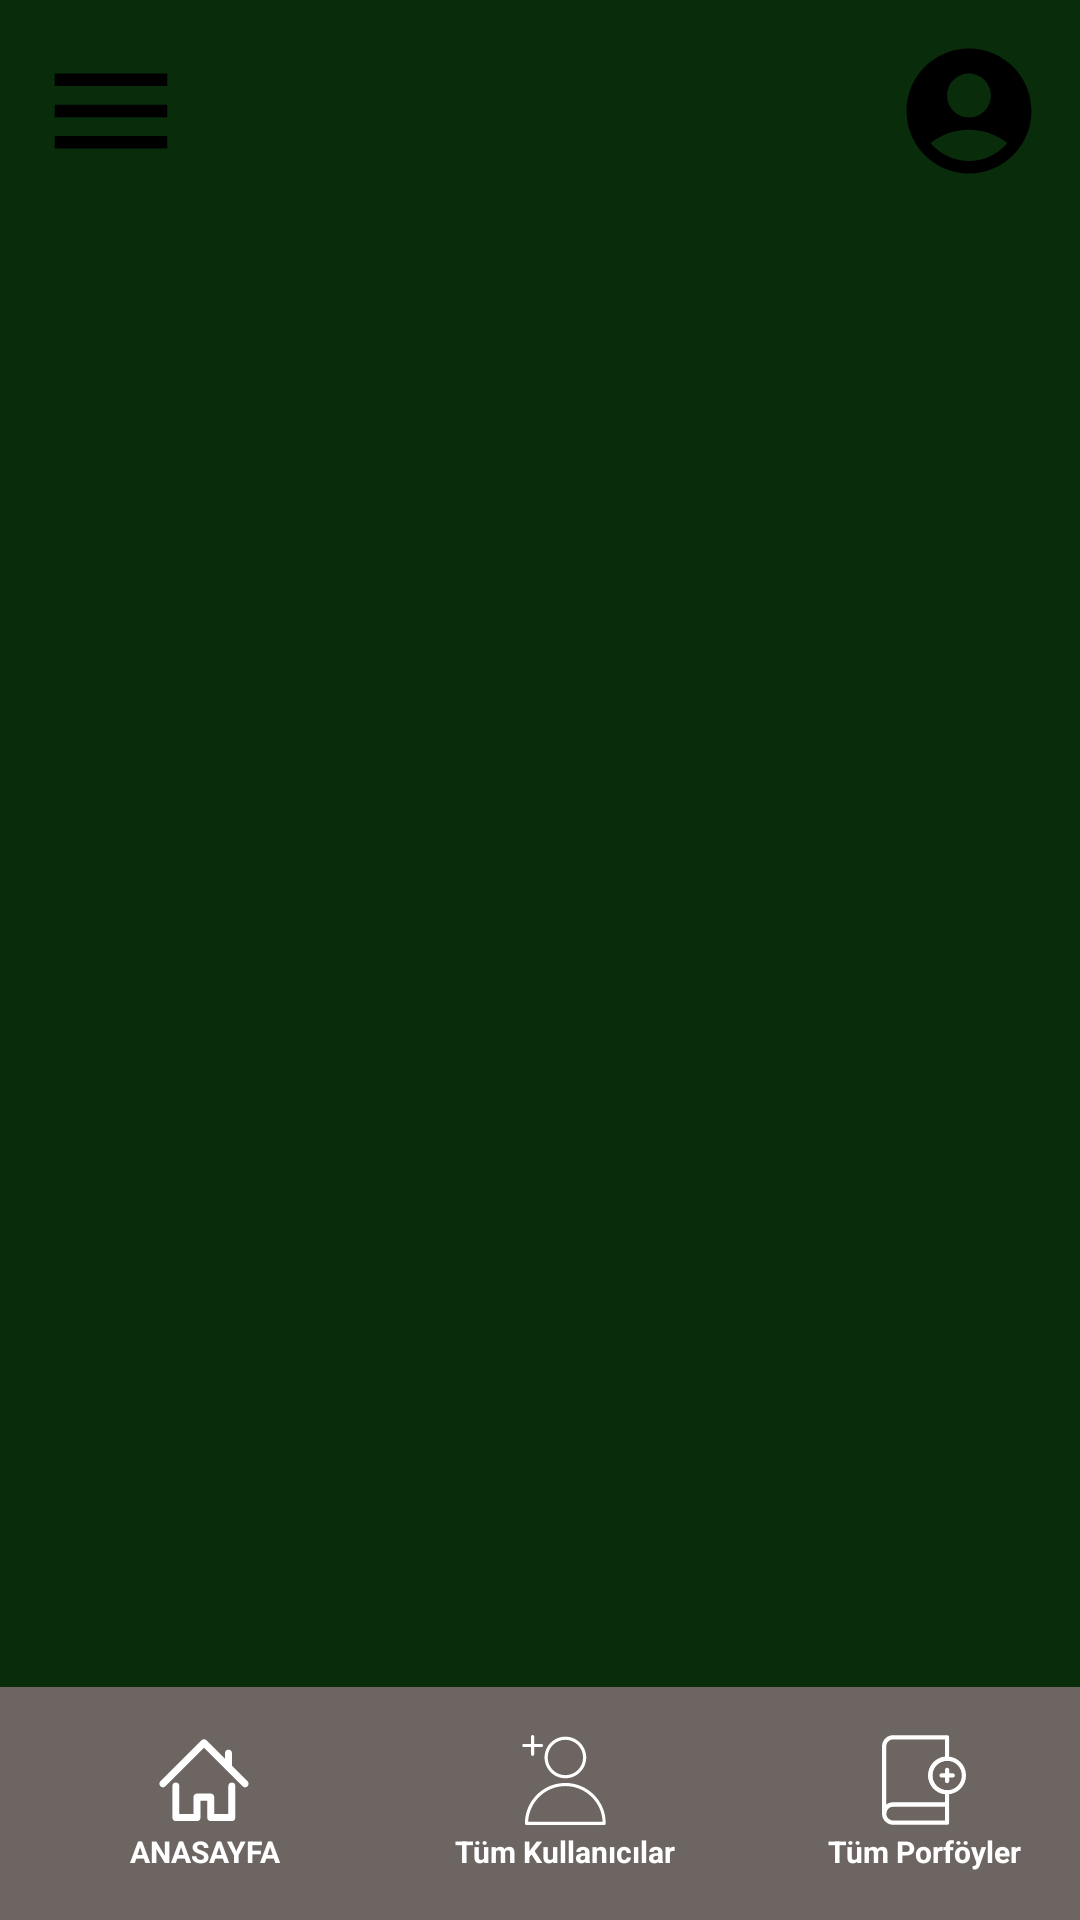

Icon bounding boxes for this 1080x1920 phone screenshot, format (x1, y1, x2, y2):
account circle: (907, 49, 1031, 173)
add user: (522, 1735, 606, 1825)
book add: (882, 1735, 966, 1825)
menu: (55, 74, 167, 148)
